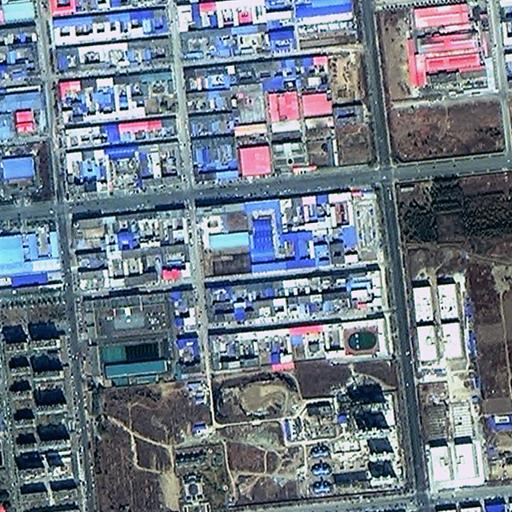school: (322, 315, 388, 361)
